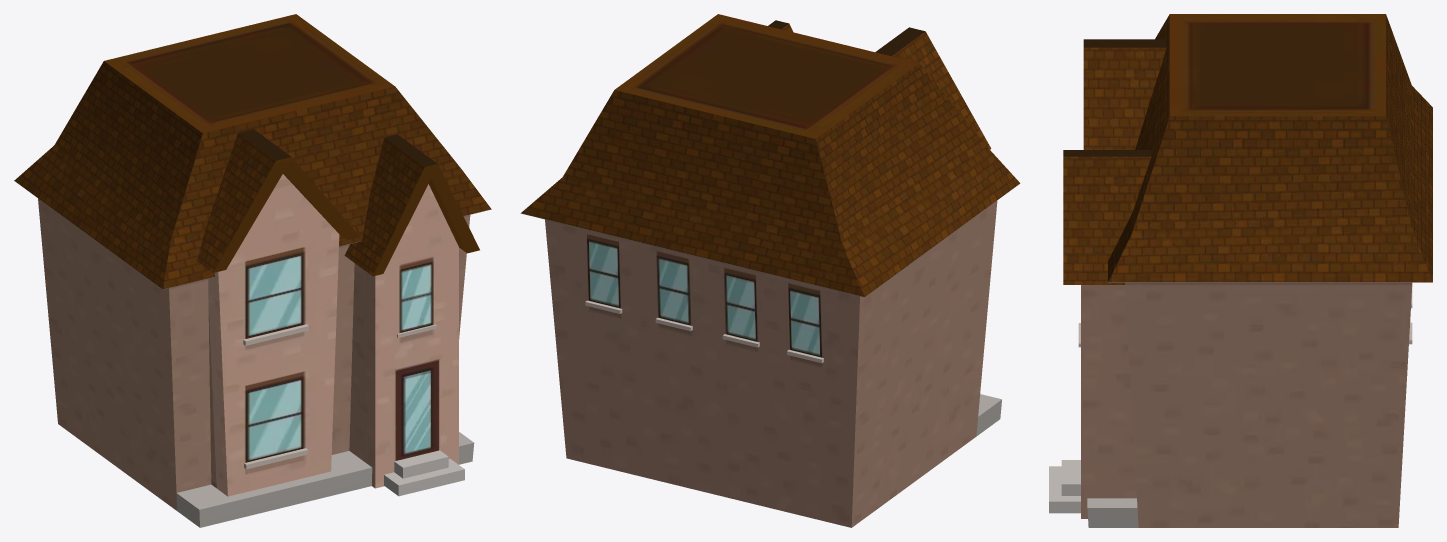
File: city_residential_01.glb
The picture shows the model from 3 angles, left to right: view 1: azimuth 30°, elevation 25°; view 2: azimuth 150°, elevation 25°; view 3: azimuth 270°, elevation 25°; orthographic projection. The views are drawn at different scales.
Parts seen in each view (by area): view 1: house02:polySurface236; view 2: house02:polySurface236; view 3: house02:polySurface236.
Part boxes in pixels (box(x1,y1,x2,y2)): house02:polySurface236: box(14, 14, 491, 527); house02:polySurface236: box(520, 14, 1020, 527); house02:polySurface236: box(1049, 14, 1432, 527).
Bounding box in the file's own units: 7.38 × 7.67 × 6.84.
1 material, 1 textured.
